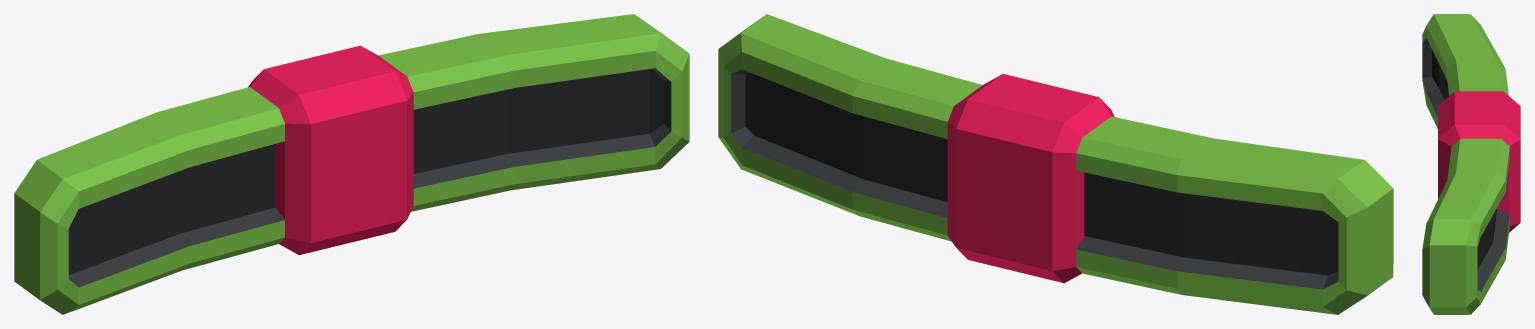
Rendered from SM_Veh_Kart_01_Rear_Bumper_03.fbx.
3 views of the same model, side by side, from view 1: azimuth 30°, elevation 25°; view 2: azimuth 150°, elevation 25°; view 3: azimuth 270°, elevation 25° (orthographic). The views are drawn at different scales.
Visible parts, largest first — view 1: SM_Veh_Kart_01_Rear_Bumper_03; view 2: SM_Veh_Kart_01_Rear_Bumper_03; view 3: SM_Veh_Kart_01_Rear_Bumper_03.
Part boxes in pixels (bbox=[...]): SM_Veh_Kart_01_Rear_Bumper_03: bbox=[14, 14, 689, 314]; SM_Veh_Kart_01_Rear_Bumper_03: bbox=[718, 14, 1393, 314]; SM_Veh_Kart_01_Rear_Bumper_03: bbox=[1422, 14, 1520, 314].
Bounding box in the file's own units: 102 × 24.06 × 18.95.
